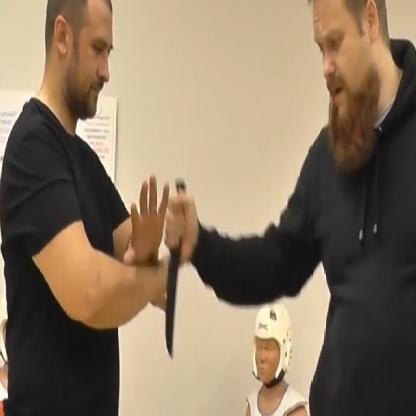knife: (158, 171, 190, 365)
